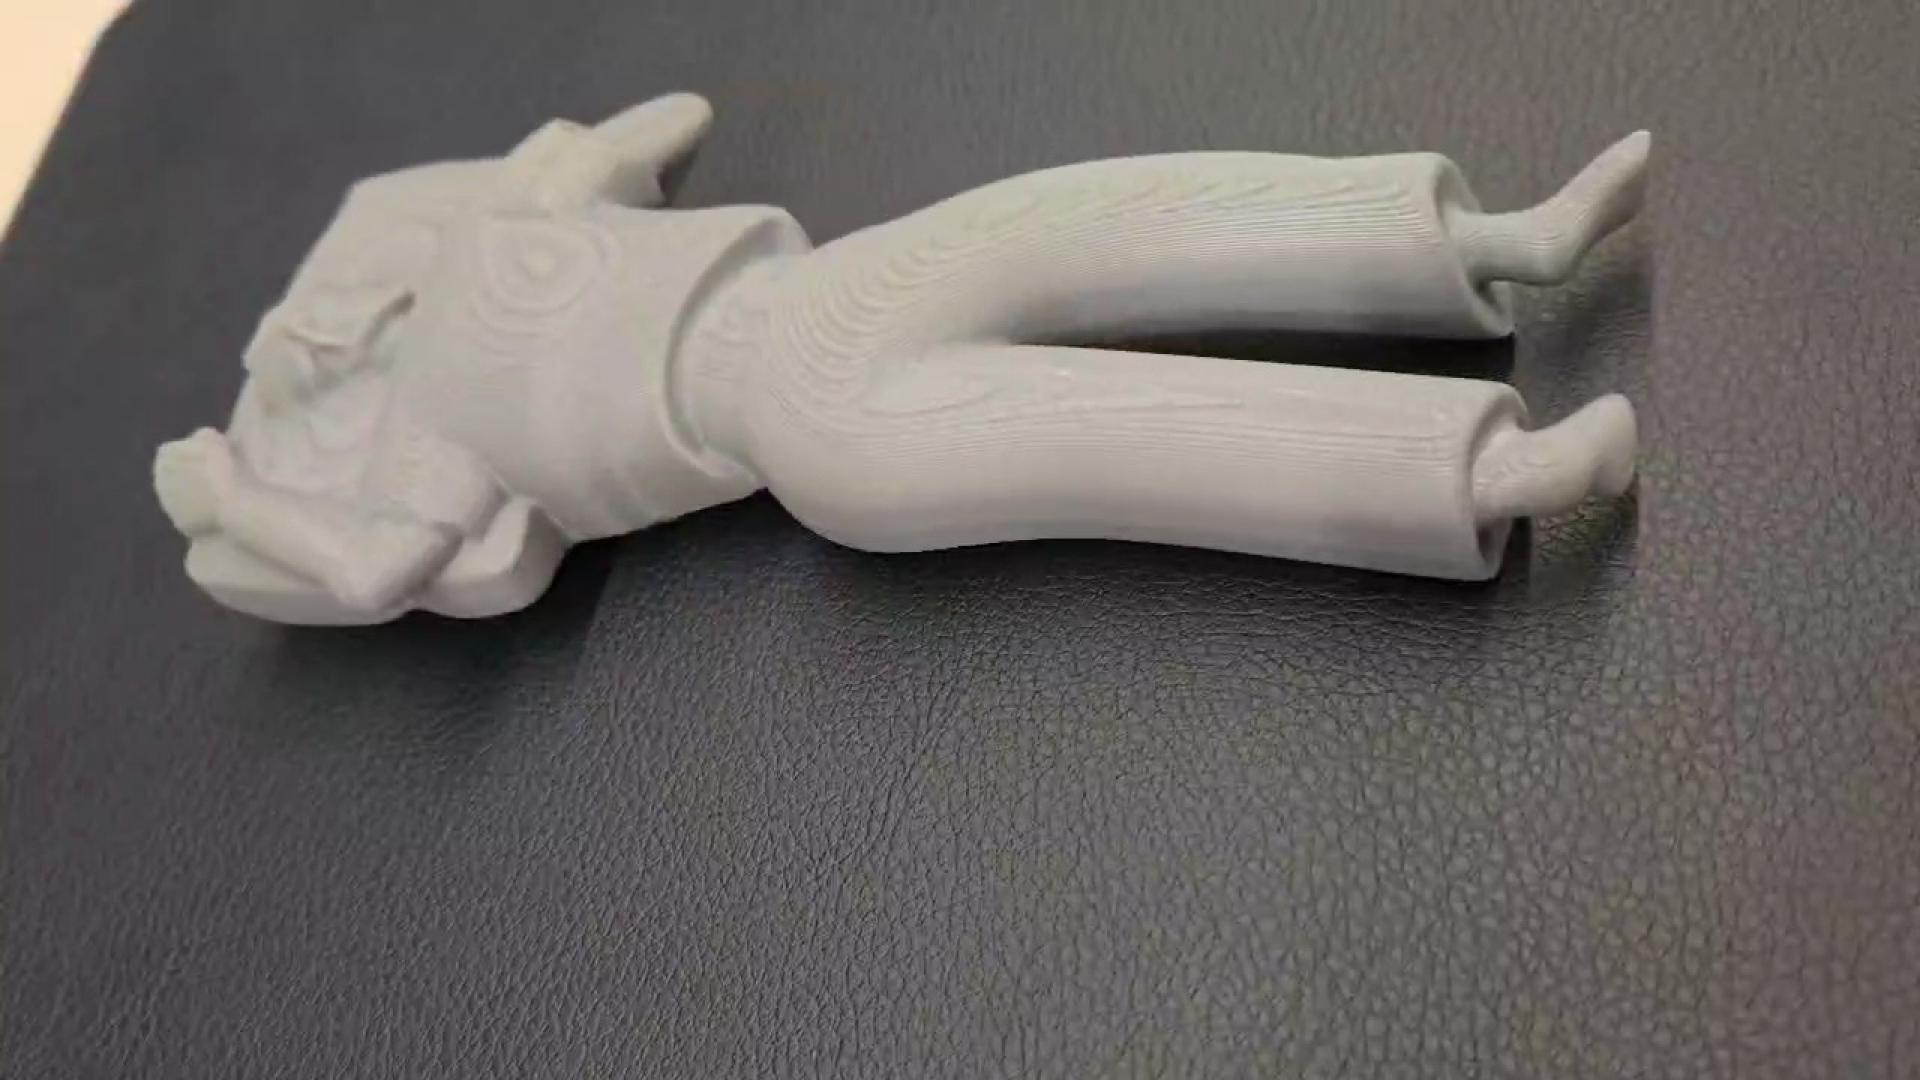Bad-style: (146, 90, 1672, 663)
